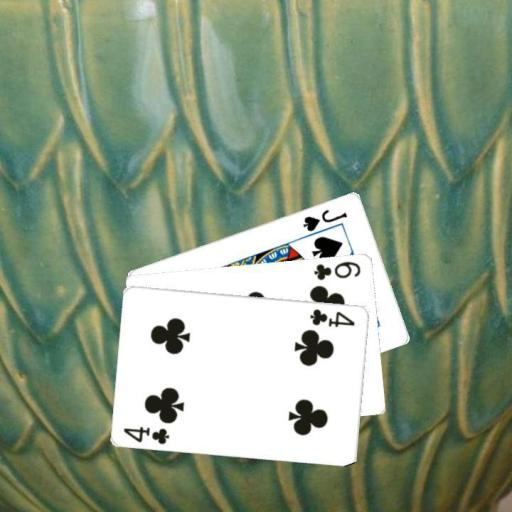4C: (307, 306, 357, 329), (121, 423, 171, 446)
6C: (312, 258, 363, 282)
JS: (300, 206, 349, 233)
